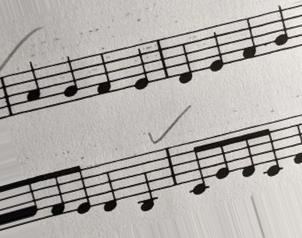A: (24, 61, 43, 112)
D: (175, 31, 195, 86), (100, 162, 120, 214)
E: (131, 42, 150, 93), (208, 24, 226, 74)
F: (94, 49, 113, 98), (239, 15, 258, 62)
G: (60, 55, 79, 104), (273, 4, 289, 54)
